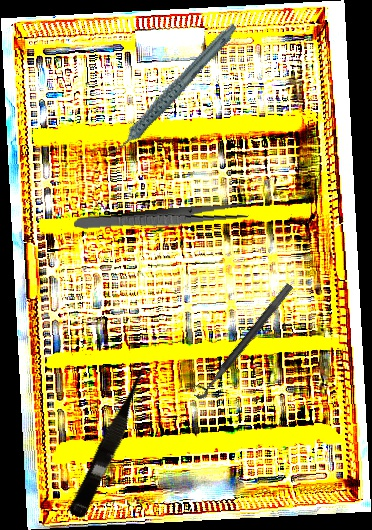Dressing Forceps: (73, 201, 252, 235)
Fixation Ring: (185, 275, 295, 402)
Handpiece: (85, 22, 258, 157)
Micro Scissor: (67, 360, 158, 522)
